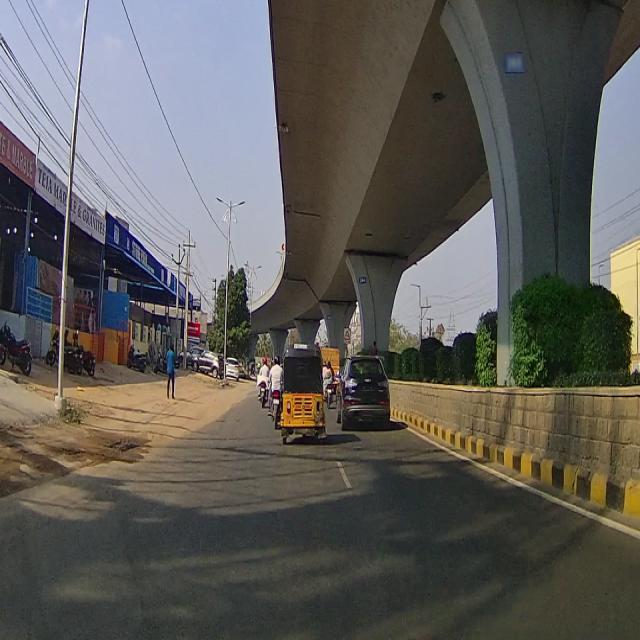left-hand-curve: (281, 242, 285, 250)
